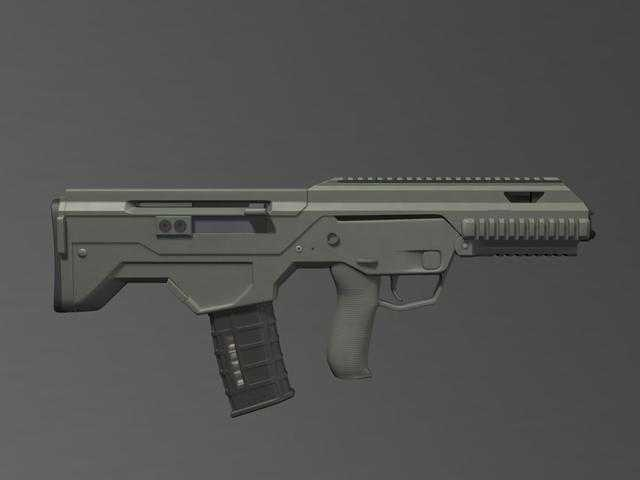heavyweapon: (17, 119, 597, 444)
